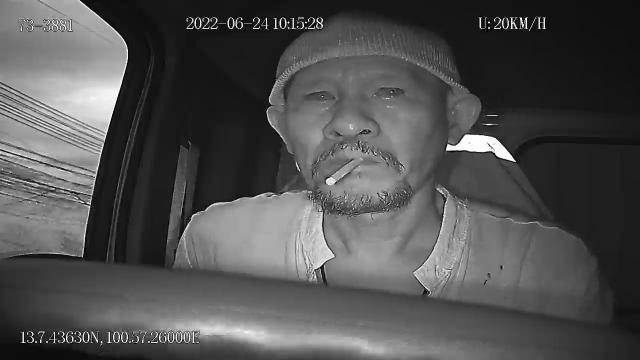SafeDriving: (296, 78, 342, 112), (364, 74, 412, 106)
Smoking: (324, 156, 364, 188)
